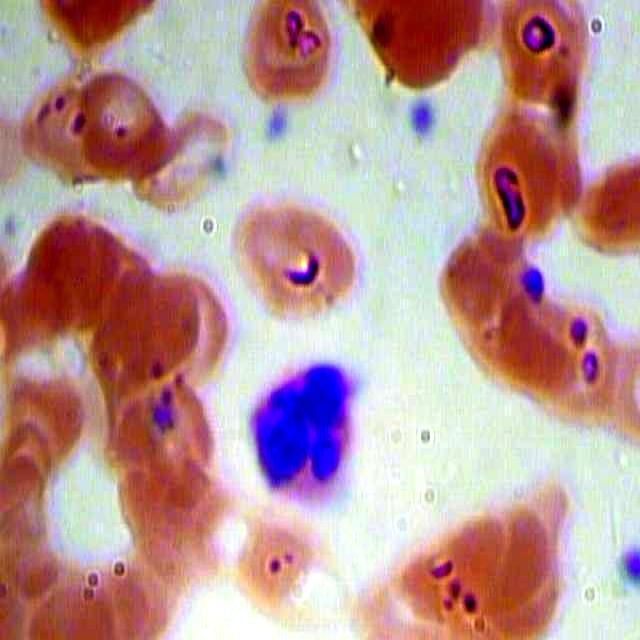Platelets: (402, 96, 440, 151), (262, 99, 300, 153)
RBC: (230, 191, 358, 324), (471, 107, 571, 252), (19, 207, 119, 341), (134, 104, 245, 216), (237, 1, 348, 112), (106, 270, 199, 382), (408, 510, 501, 622), (461, 498, 554, 610), (232, 502, 325, 614), (80, 71, 173, 181), (495, 1, 591, 106), (378, 1, 482, 96)
WBC: (240, 349, 362, 519)
